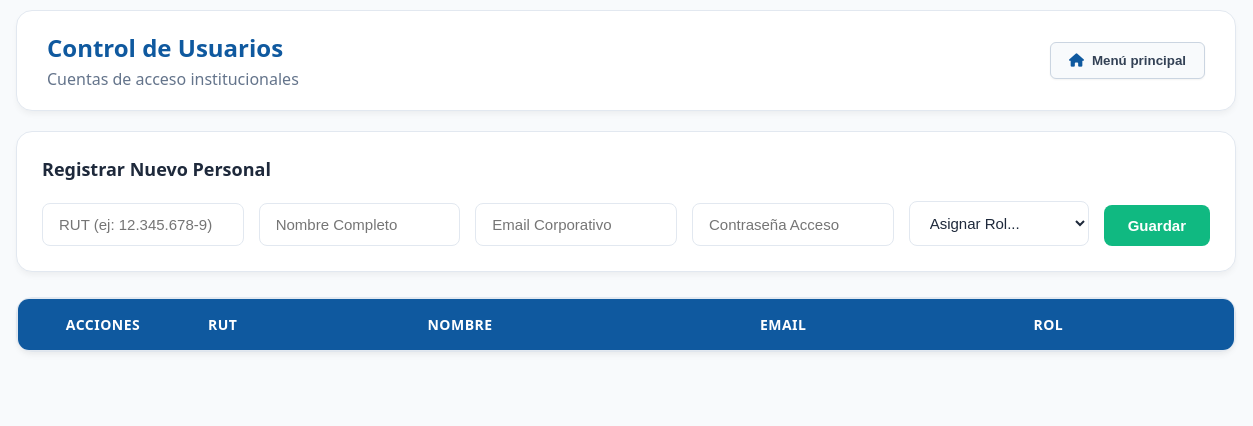
it: Usuarios › muestra error cuando crear usuario falla por validación
Type "111111111" into the field with placeholder "RUT (ej: 12.345.678-9)".
click(143, 224); type("111111111")  # box x1=42 y1=203 x2=244 y2=246
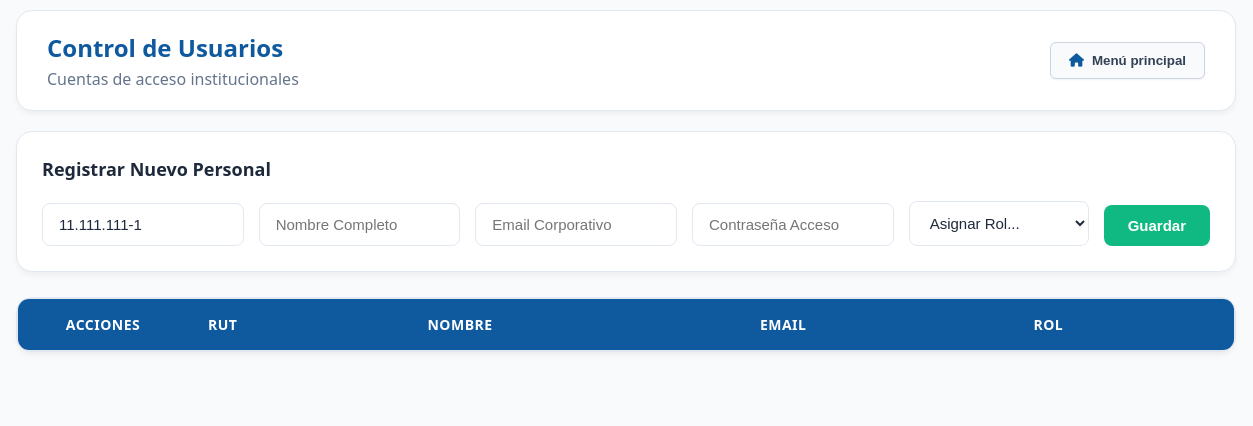
Type "Juan Pérez" into the field with placeholder "Nombre Completo".
click(360, 224); type("Juan Pérez")  # box x1=259 y1=203 x2=460 y2=246
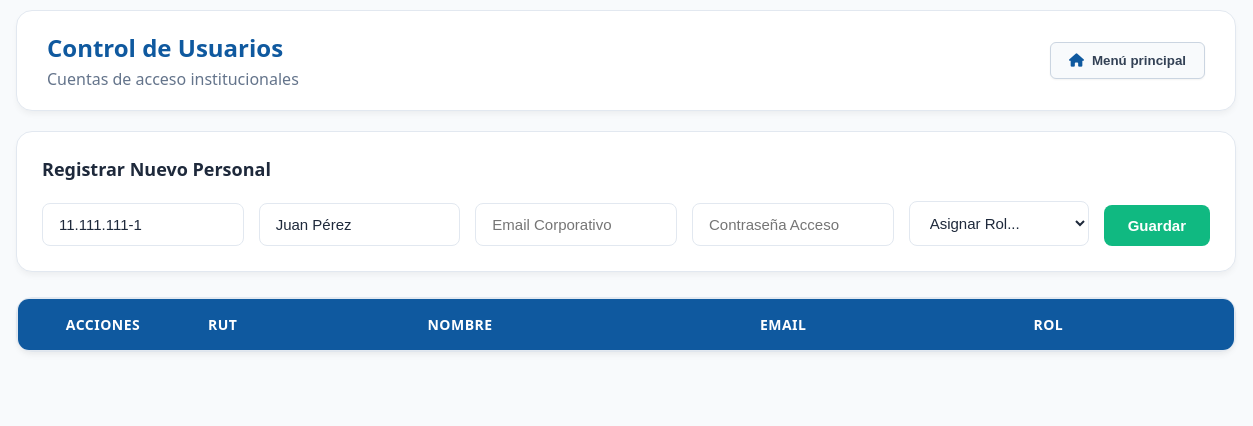
Type "juan@test.cl" into the field with placeholder "Email Corporativo".
click(576, 224); type("juan@test.cl")  # box x1=475 y1=203 x2=677 y2=246
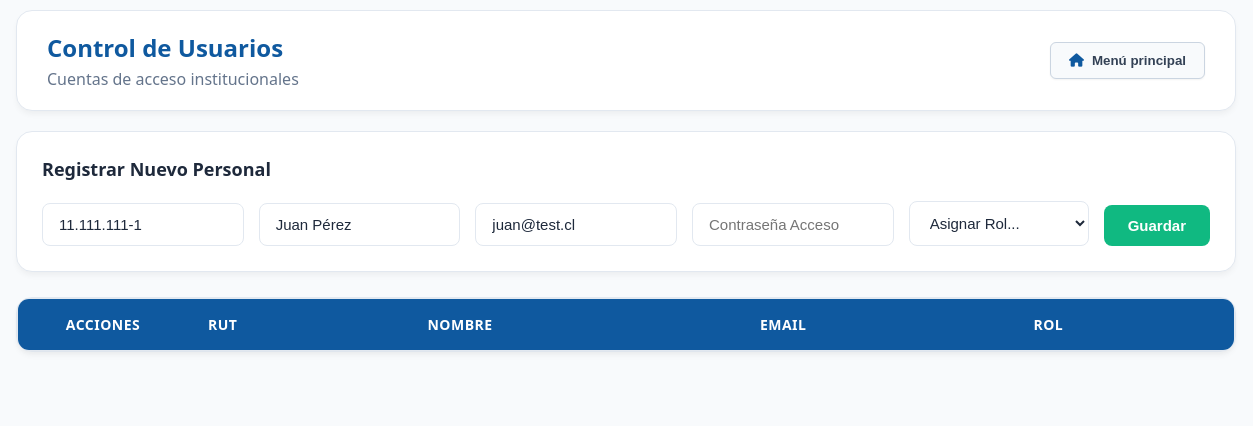
Type "123456" into the password field with placeholder "Contraseña Acceso".
click(793, 224); type("123456")  # box x1=692 y1=203 x2=894 y2=246
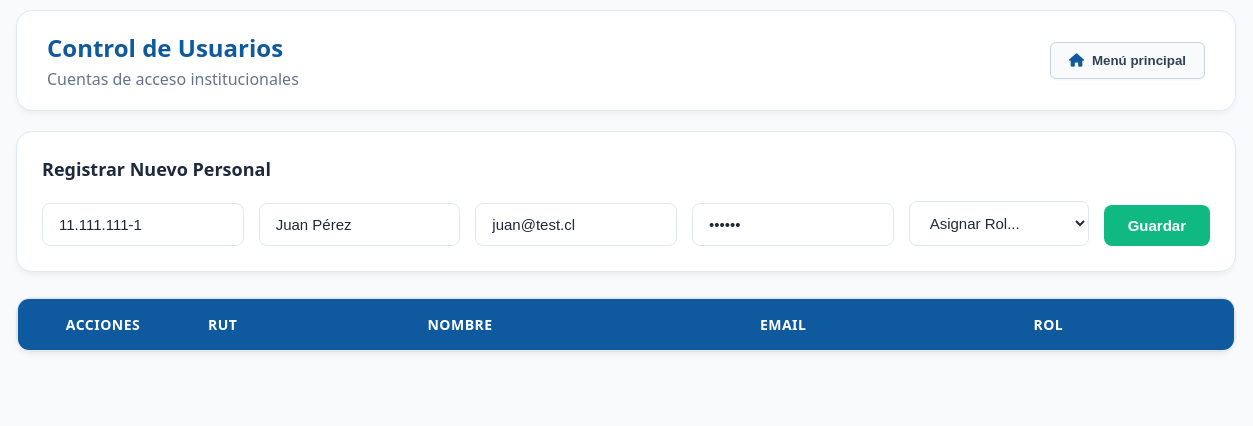
Select "PROFESOR" in the dropdown at point(999, 224), box x1=909 y1=201 x2=1089 y2=246
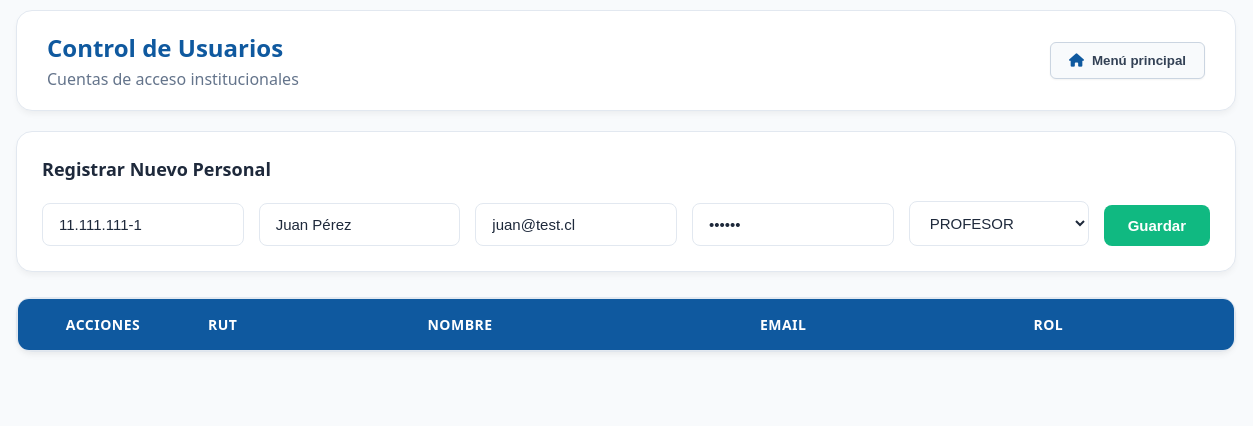
Click the button "Guardar".
click(1157, 226)  # box x1=1104 y1=205 x2=1210 y2=246
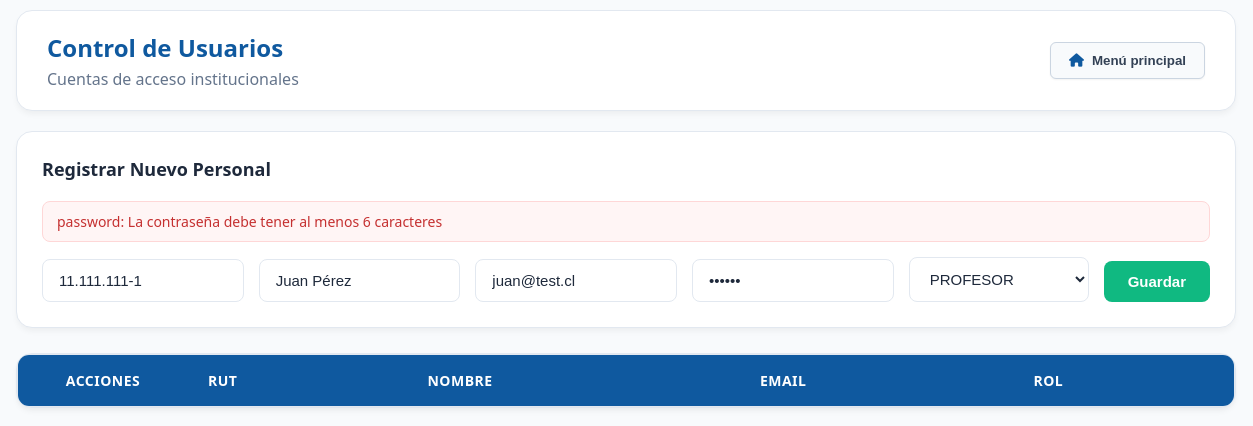
Expected: the text "password: La contraseña debe tener al menos 6 caracteres" is shown, x1=42 y1=201 x2=1210 y2=242
